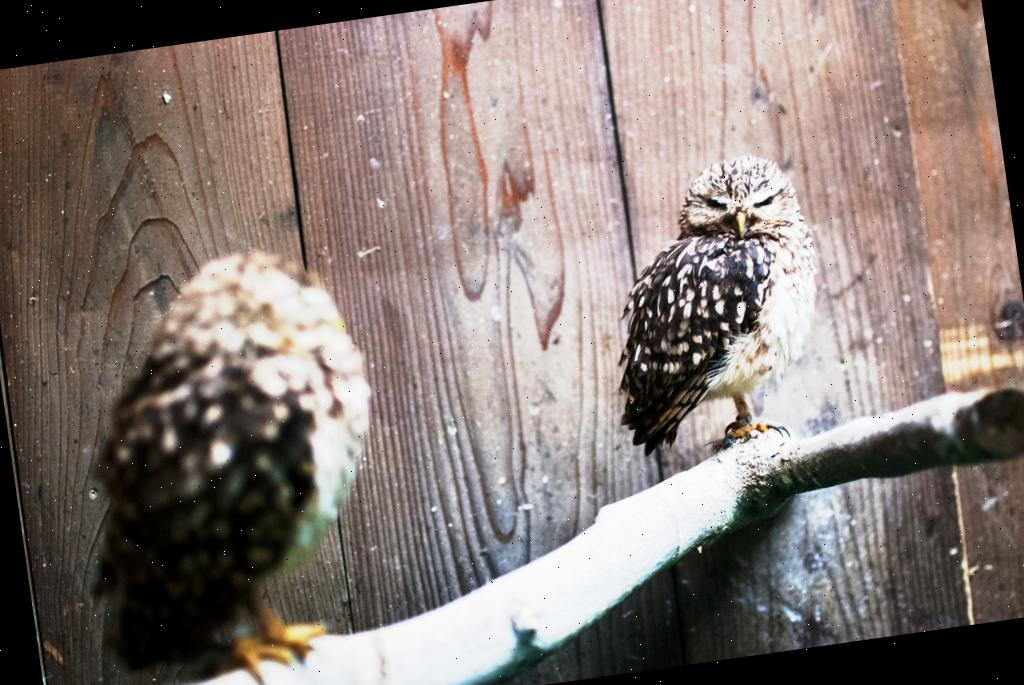Owl: (50, 219, 422, 685), (582, 141, 850, 464)
